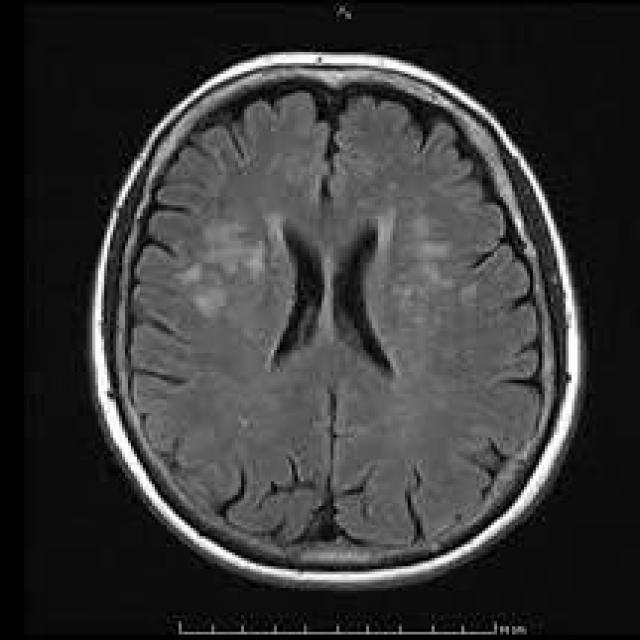notumor: (92, 52, 580, 588)
